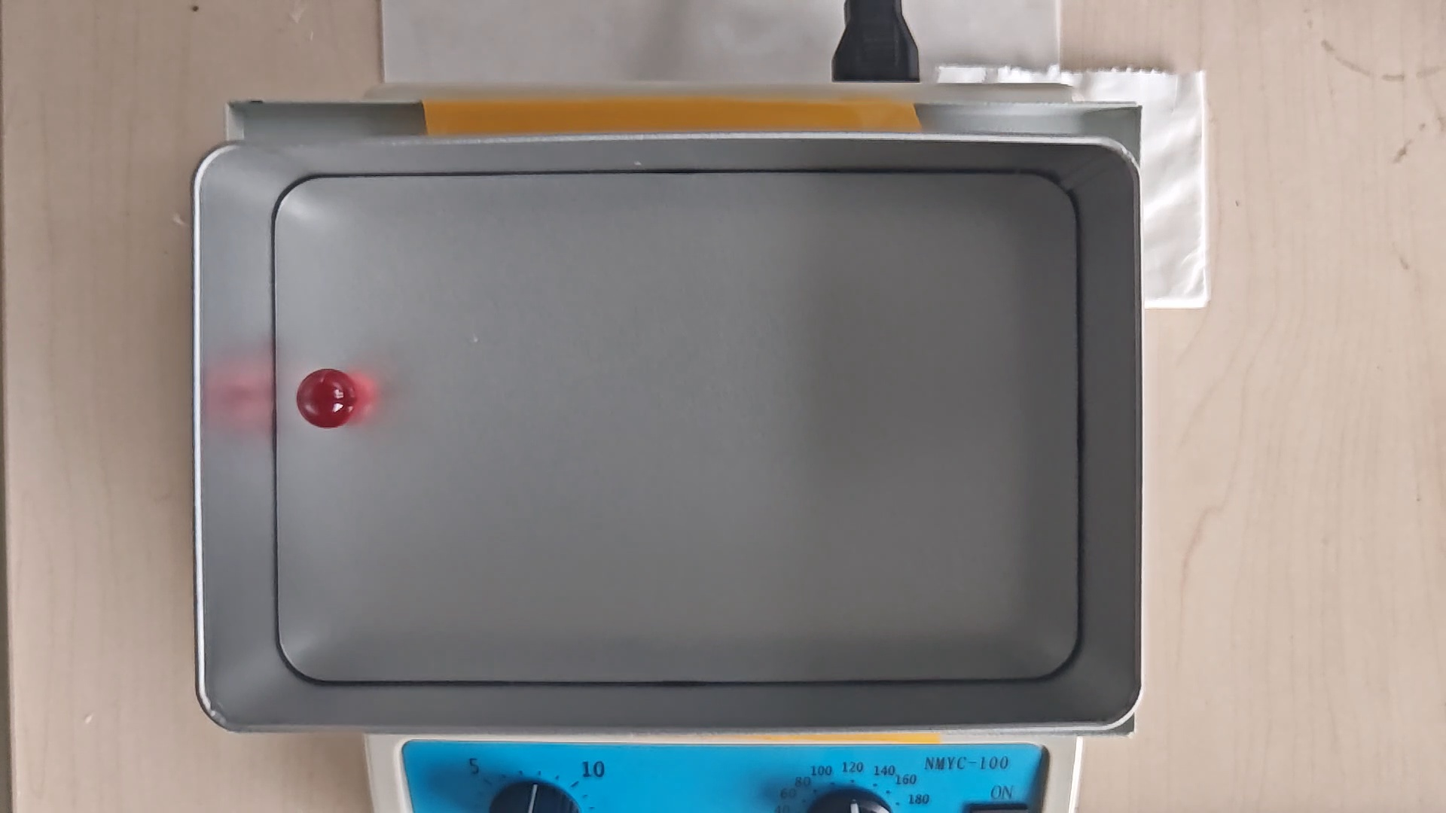ball: (298, 369, 357, 428)
container: (273, 174, 1083, 681)
